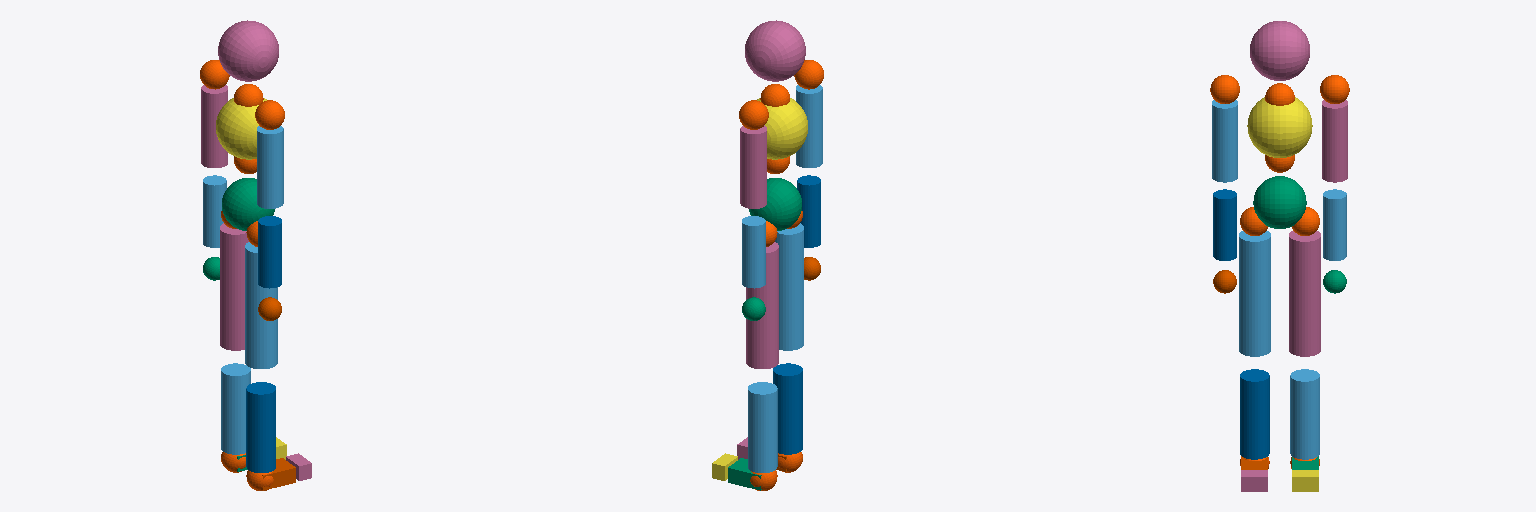
--- Facts derived from the render (not from the file) ---
Views: 3 orthographic renders of the robot side by side, from view 1: azimuth 30°, elevation 25°; view 2: azimuth 150°, elevation 25°; view 3: azimuth 270°, elevation 25°.
Model W0006 with 35 links and 34 joints (28 revolute, 6 fixed), rooted at base_link, posed all joints at 0.
Visible links, largest first — view 1: left_hip, neck, right_hip, right_knee, left_knee, right_shoulder, chest, left_shoulder, right_elbow, root, left_elbow, chest_right_shoulder_link2 (+3 smaller); view 2: right_hip, neck, left_hip, left_knee, right_knee, left_shoulder, chest, right_shoulder, left_elbow, root, right_elbow, chest_left_shoulder_link2 (+3 smaller); view 3: right_hip, left_hip, chest, neck, right_knee, left_knee, root, right_shoulder, left_shoulder, right_elbow, left_elbow, chest_right_shoulder_link2 (+4 smaller).
Boxes of the visible links, left/top/right/bottom form: left_hip: left=220, top=223, right=248, bottom=350; neck: left=218, top=20, right=278, bottom=81; right_hip: left=245, top=242, right=277, bottom=368; right_knee: left=246, top=382, right=275, bottom=472; left_knee: left=221, top=363, right=250, bottom=454; right_shoulder: left=257, top=126, right=283, bottom=208; chest: left=216, top=98, right=266, bottom=159; left_shoulder: left=201, top=85, right=227, bottom=167; right_elbow: left=258, top=216, right=281, bottom=288; root: left=222, top=178, right=274, bottom=230; left_elbow: left=203, top=175, right=226, bottom=247; chest_right_shoulder_link2: left=255, top=100, right=284, bottom=129; right_hip: left=775, top=223, right=803, bottom=350; neck: left=745, top=20, right=805, bottom=81; left_hip: left=746, top=242, right=778, bottom=368; left_knee: left=748, top=382, right=777, bottom=472; right_knee: left=773, top=363, right=802, bottom=454; left_shoulder: left=740, top=125, right=766, bottom=208; chest: left=757, top=98, right=807, bottom=159; right_shoulder: left=796, top=85, right=822, bottom=167; left_elbow: left=742, top=216, right=765, bottom=288; root: left=749, top=178, right=801, bottom=230; right_elbow: left=797, top=175, right=820, bottom=247; chest_left_shoulder_link2: left=739, top=100, right=768, bottom=129; right_hip: left=1239, top=231, right=1270, bottom=356; left_hip: left=1289, top=231, right=1320, bottom=356; chest: left=1247, top=97, right=1312, bottom=157; neck: left=1250, top=21, right=1309, bottom=80; right_knee: left=1240, top=369, right=1269, bottom=459; left_knee: left=1290, top=369, right=1319, bottom=459; root: left=1253, top=176, right=1306, bottom=228; right_shoulder: left=1212, top=100, right=1237, bottom=182; left_shoulder: left=1322, top=100, right=1347, bottom=182; right_elbow: left=1213, top=189, right=1236, bottom=260; left_elbow: left=1323, top=189, right=1346, bottom=260; chest_right_shoulder_link2: left=1210, top=75, right=1239, bottom=103.
Size in the robot's own frame: 0.28 by 0.47 by 1.69 metres.
Geometry: primitives only (box / cylinder / sphere), no mesh files.

URDF robot description (W0006):
<?xml version="1.0" ?>
            <robot name="W0006">
            <material name="orange">
                <color rgba="1.0 0.4235294117647059 0.0392156862745098 1.0"/>
            </material>
            <link name="base_link">
                </link>
            <link name="base">
                </link>
            <joint name="j_base_base_link_rotation" type="fixed">
                <parent link="base_link"/>
                <child link="base"/>
                <origin rpy="1.5707963267948966 0 0" xyz="0 0 0"/>
            </joint>
            <link name="root">
                <inertial>
                <origin rpy="0 0 0" xyz="0.0 0.07 0.0"/>
                <mass value="6.000000"/>
                <inertia ixx="0.019440000000000002" ixy="0" ixz="0" iyy="0.019440000000000002" iyz="0" izz="0.019440000000000002"/>
                </inertial>
                <collision>
                <origin rpy="0 0 0" xyz="0.000000 0.070000 0.000000"/>
                <geometry>
                    <sphere radius="0.09"/>
                </geometry>
                </collision>
                <visual>
                <origin rpy="0 0 0" xyz="0.000000 0.070000 0.000000"/>
                <geometry>
                    <sphere radius="0.09"/>
                </geometry>
                </visual>
            </link>
            <joint name="j_root" type="fixed">
                <parent link="base"/>
                <child link="root"/>
                <origin rpy="0 0 0" xyz="0 0.000000 0.000000"/>
            </joint>
            <link name="chest">
                <inertial>
                <origin rpy="0 0 0" xyz="0.000000 0.120000 0.000000"/>
                <mass value="14.000000"/>
                <inertia ixx="0.06776000000000001" ixy="0" ixz="0" iyy="0.06776000000000001" iyz="0" izz="0.06776000000000001"/>
                </inertial>
                <collision>
                <origin rpy="0 0 0" xyz="0.000000 0.120000 0.000000"/>
                <geometry>
                    <sphere radius="0.11"/>
                </geometry>
                </collision>
                <visual>
                <origin rpy="0 0 0" xyz="0.000000 0.120000 0.000000"/>
                <geometry>
                    <sphere radius="0.11"/>
                </geometry>
                </visual>
            </link>
            <link name="root_chest_link1">
                <inertial>
                <mass value="1e-02"/>
                <inertia ixx="1e-02" ixy="0" ixz="0" iyy="1e-02" iyz="0" izz="1e-02"/>
                </inertial>
            </link>
            <joint name="j_root_chest_joint1" type="revolute">
                <origin rpy="0 0 0" xyz="0.0 0.236151 0.000000"/>
                <parent link="root"/>
                <child link="root_chest_link1"/>
                <axis xyz="1 0 0"/>
                <limit effort="200" lower="-1.2" upper="1.2" velocity="3"/>
            </joint>
            <link name="root_chest_link2">
                <inertial>
                <mass value="1e-02"/>
                <inertia ixx="1e-02" ixy="0" ixz="0" iyy="1e-02" iyz="0" izz="1e-02"/>
                </inertial>
                <visual>
                <geometry>
                    <sphere radius="0.05"/>
                </geometry>
                <material name="orange"/>
                </visual>
            </link>
            <joint name="j_root_chest_joint2" type="revolute">
                <parent link="root_chest_link1"/>
                <child link="root_chest_link2"/>
                <axis xyz="0 1 0"/>
                <limit effort="200" lower="-1.2" upper="1.2" velocity="3"/>
            </joint>
            <joint name="j_root_chest_joint3" type="revolute">
                <parent link="root_chest_link2"/>
                <child link="chest"/>
                <axis xyz="0 0 1"/>
                <limit effort="200" lower="-1.2" upper="1.2" velocity="3"/>
            </joint>
            <link name="neck">
                <inertial>
                <origin rpy="0 0 0" xyz="0.0 0.175 0.0"/>
                <mass value="2.000000"/>
                <inertia ixx="0.008405" ixy="0" ixz="0" iyy="0.008405" iyz="0" izz="0.008405"/>
                </inertial>
                <collision>
                <origin rpy="0 0 0" xyz="0.0 0.175 0.0"/>
                <geometry>
                    <sphere radius="0.1025"/>
                </geometry>
                </collision>
                <visual>
                <origin rpy="0 0 0" xyz="0.0 0.175 0.0"/>
                <geometry>
                    <sphere radius="0.1025"/>
                </geometry>
                </visual>
            </link>
            <link name="chest_neck_link1">
                <inertial>
                <mass value="1e-02"/>
                <inertia ixx="1e-02" ixy="0" ixz="0" iyy="1e-02" iyz="0" izz="1e-02"/>
                </inertial>
            </link>
            <joint name="j_chest_neck_joint1" type="revolute">
                <origin rpy="0 0 0" xyz="0.000000 0.223894 0.000000"/>
                <parent link="chest"/>
                <child link="chest_neck_link1"/>
                <axis xyz="1 0 0"/>
                <limit effort="50" lower="-1" upper="1" velocity="3"/>
            </joint>
            <link name="chest_neck_link2">
                <inertial>
                <mass value="1e-02"/>
                <inertia ixx="1e-02" ixy="0" ixz="0" iyy="1e-02" iyz="0" izz="1e-02"/>
                </inertial>
                <visual>
                <geometry>
                    <sphere radius="0.05"/>
                </geometry>
                <material name="orange"/>
                </visual>
            </link>
            <joint name="j_chest_neck_joint2" type="revolute">
                <parent link="chest_neck_link1"/>
                <child link="chest_neck_link2"/>
                <axis xyz="0 1 0"/>
                <limit effort="50" lower="-1" upper="1" velocity="3"/>
            </joint>
            <joint name="j_chest_neck_joint3" type="revolute">
                <parent link="chest_neck_link2"/>
                <child link="neck"/>
                <axis xyz="0 0 1"/>
                <limit effort="50" lower="-1" upper="1" velocity="3"/>
            </joint>
            <link name="right_hip">
                <inertial>
                <origin rpy="0 0 0" xyz="0.000000 -0.210000 0.000000"/>
                <mass value="4.500000"/>
                <inertia ixx="0.037153124999999995" ixy="0.0" ixz="0.0" iyy="0.037153124999999995" iyz="0.0" izz="0.00680625"/>
                </inertial>
                <collision>
                <origin rpy="1.5707963267948966 0 0" xyz="0.000000 -0.210000 0.000000"/>
                <geometry>
                    <cylinder length="0.22499999999999998" radius="0.0275"/>
                </geometry>
                </collision>
                <visual>
                <origin rpy="1.5707963267948966 0 0" xyz="0.000000 -0.26385 0.000000"/>
                <geometry>
                    <cylinder length="0.42769999999999997" radius="0.055"/>
                </geometry>
                </visual>
            </link>
            <link name="root_right_hip_link1">
                <inertial>
                <mass value="1e-02"/>
                <inertia ixx="1e-02" ixy="0" ixz="0" iyy="1e-02" iyz="0" izz="1e-02"/>
                </inertial>
            </link>
            <joint name="j_root_right_hip_joint1" type="revolute">
                <origin rpy="0 0 0" xyz="0.000000 0.000000 0.084887"/>
                <parent link="root"/>
                <child link="root_right_hip_link1"/>
                <axis xyz="1 0 0"/>
                <limit effort="200" lower="-1.5" upper="1.5" velocity="3"/>
            </joint>
            <link name="root_right_hip_link2">
                <inertial>
                <mass value="1e-02"/>
                <inertia ixx="1e-02" ixy="0" ixz="0" iyy="1e-02" iyz="0" izz="1e-02"/>
                </inertial>
                <visual>
                <geometry>
                    <sphere radius="0.05"/>
                </geometry>
                <material name="orange"/>
                </visual>
            </link>
            <joint name="j_root_right_hip_joint2" type="revolute">
                <parent link="root_right_hip_link1"/>
                <child link="root_right_hip_link2"/>
                <axis xyz="0 1 0"/>
                <limit effort="200" lower="-1.5" upper="1.5" velocity="3"/>
            </joint>
            <joint name="j_root_right_hip_joint3" type="revolute">
                <parent link="root_right_hip_link2"/>
                <child link="right_hip"/>
                <axis xyz="0 0 1"/>
                <limit effort="200" lower="-1.5" upper="1.5" velocity="3"/>
            </joint>
            <link name="right_knee">
                <inertial>
                <origin rpy="0 0 0" xyz="0.000000 -0.200000 0.000000"/>
                <mass value="3.000000"/>
                <inertia ixx="0.1" ixy="0" ixz="0" iyy="0.1" iyz="0" izz="0.1"/>
                </inertial>
                <collision>
                <origin rpy="1.5707963267948966 0 0" xyz="0.000000 -0.200000 0.000000"/>
                <geometry>
                    <cylinder length="0.23249999999999998" radius="0.025"/>
                </geometry>
                </collision>
                <visual>
                <origin rpy="1.5707963267948966 0 0" xyz="0.000000 -0.2 0.000000"/>
                <geometry>
                    <cylinder length="0.29" radius="0.05"/>
                </geometry>
                </visual>
            </link>
            <joint name="j_right_knee" type="revolute">
                <parent link="right_hip"/>
                <child link="right_knee"/>
                <limit effort="150.0" lower="-3.14" upper="0." velocity="0.5"/>
                <origin rpy="0 0 0" xyz="0.000000 -0.5177 0.000000"/>
                <axis xyz="0.000000 0.000000 1.000000"/>
            </joint>
            <link name="right_ankle">
                <inertial>
                <origin rpy="0 0 0" xyz="0.045 -0.00225 0.000000"/>
                <mass value="1.000000"/>
                <inertia ixx="0.0009270833333333333" ixy="0.0" ixz="0.0" iyy="0.0028628333333333327" iyz="0.0" izz="0.003285749999999999"/>
                </inertial>
                <collision>
                <origin rpy="0 0 0" xyz="0.045 -0.00225 0.000000"/>
                <geometry>
                    <box size="0.127 0.055 0.09"/>
                </geometry>
                </collision>
                <visual>
                <origin rpy="0 0 0" xyz="0.045 -0.00225 0.000000"/>
                <geometry>
                    <box size="0.127 0.055 0.09"/>
                </geometry>
                </visual>
            </link>
            <joint name="j_right_toe" type="fixed">
                <parent link="right_ankle"/>
                <child link="right_toe"/>
                <limit effort="150.0" lower="-3.14" upper="0." velocity="0.5"/>
                <origin rpy="0 0 0" xyz="0.1 0.0 0.0"/>
                <axis xyz="0.000000 0.000000 1.000000"/>
            </joint>
            <link name="right_toe">
                <inertial>
                <origin rpy="0 0 0" xyz="0.045 0.0 0.0"/>
                <mass value="0.3"/>
                <inertia ixx="0.0009270833333333333" ixy="0.0" ixz="0.0" iyy="0.0028628333333333327" iyz="0.0" izz="0.003285749999999999"/>
                </inertial>
                <collision>
                <origin rpy="0 0 0" xyz="0.045 0.0 0.0"/>
                <geometry>
                    <box size="0.05 0.055 0.09"/>
                </geometry>
                </collision>
                <visual>
                <origin rpy="0 0 0" xyz="0.045 0.0 0.0"/>
                <geometry>
                    <box size="0.05 0.055 0.09"/>
                </geometry>
                </visual>
            </link>
            <link name="right_knee_right_ankle_link1">
                <inertial>
                <mass value="1e-02"/>
                <inertia ixx="1e-02" ixy="0" ixz="0" iyy="1e-02" iyz="0" izz="1e-02"/>
                </inertial>
            </link>
            <joint name="j_right_knee_right_ankle_joint1" type="revolute">
                <origin rpy="0 0 0" xyz="0.000000 -0.38 0.000000"/>
                <parent link="right_knee"/>
                <child link="right_knee_right_ankle_link1"/>
                <axis xyz="1 0 0"/>
                <limit effort="90" lower="-1.2" upper="1.2" velocity="3"/>
            </joint>
            <link name="right_knee_right_ankle_link2">
                <inertial>
                <mass value="1e-02"/>
                <inertia ixx="1e-02" ixy="0" ixz="0" iyy="1e-02" iyz="0" izz="1e-02"/>
                </inertial>
                <visual>
                <geometry>
                    <sphere radius="0.05"/>
                </geometry>
                <material name="orange"/>
                </visual>
            </link>
            <joint name="j_right_knee_right_ankle_joint2" type="revolute">
                <parent link="right_knee_right_ankle_link1"/>
                <child link="right_knee_right_ankle_link2"/>
                <axis xyz="0 1 0"/>
                <limit effort="90" lower="-1.2" upper="1.2" velocity="3"/>
            </joint>
            <joint name="j_right_knee_right_ankle_joint3" type="revolute">
                <parent link="right_knee_right_ankle_link2"/>
                <child link="right_ankle"/>
                <axis xyz="0 0 1"/>
                <limit effort="90" lower="-1.2" upper="1.2" velocity="3"/>
            </joint>
            <link name="right_shoulder">
                <inertial>
                <origin rpy="0 0 0" xyz="0.000000 -0.140000 0.000000"/>
                <mass value="1.500000"/>
                <inertia ixx="0.004809374999999999" ixy="0.0" ixz="0.0" iyy="0.004809374999999999" iyz="0.0" izz="0.0015187500000000001"/>
                </inertial>
                <collision>
                <origin rpy="1.5707963267948966 0 0" xyz="0.000000 -0.140000 0.000000"/>
                <geometry>
                    <cylinder length="0.135" radius="0.0225"/>
                </geometry>
                </collision>
                <visual>
                <origin rpy="1.5707963267948966 0 0" xyz="0.000000 -0.1875 0.000000"/>
                <geometry>
                    <cylinder length="0.275" radius="0.045"/>
                </geometry>
                </visual>
            </link>
            <link name="chest_right_shoulder_link1">
                <inertial>
                <mass value="1e-02"/>
                <inertia ixx="1e-02" ixy="0" ixz="0" iyy="1e-02" iyz="0" izz="1e-02"/>
                </inertial>
            </link>
            <joint name="j_chest_right_shoulder_joint1" type="revolute">
                <origin rpy="0 0 0" xyz="-0.02406 0.24350 0.185"/>
                <parent link="chest"/>
                <child link="chest_right_shoulder_link1"/>
                <axis xyz="1 0 0"/>
                <limit effort="100" lower="-3.14" upper="3.14" velocity="3"/>
            </joint>
            <link name="chest_right_shoulder_link2">
                <inertial>
                <mass value="1e-02"/>
                <inertia ixx="1e-02" ixy="0" ixz="0" iyy="1e-02" iyz="0" izz="1e-02"/>
                </inertial>
                <visual>
                <geometry>
                    <sphere radius="0.05"/>
                </geometry>
                <material name="orange"/>
                </visual>
            </link>
            <joint name="j_chest_right_shoulder_joint2" type="revolute">
                <parent link="chest_right_shoulder_link1"/>
                <child link="chest_right_shoulder_link2"/>
                <axis xyz="0 1 0"/>
                <limit effort="100" lower="-3.14" upper="3.14" velocity="3"/>
            </joint>
            <joint name="j_chest_right_shoulder_joint3" type="revolute">
                <parent link="chest_right_shoulder_link2"/>
                <child link="right_shoulder"/>
                <axis xyz="0 0 1"/>
                <limit effort="100" lower="-3.14" upper="3.14" velocity="3"/>
            </joint>
            <link name="right_elbow">
                <inertial>
                <origin rpy="0 0 0" xyz="0.000000 -0.120000 0.000000"/>
                <mass value="1.000000"/>
                <inertia ixx="0.0019187499999999999" ixy="0.0" ixz="0.0" iyy="0.0019187499999999999" iyz="0.0" izz="0.0008"/>
                </inertial>
                <collision>
                <origin rpy="1.5707963267948966 0 0" xyz="0.0 -0.12 0.0"/>
                <geometry>
                    <cylinder length="0.10125" radius="0.02"/>
                </geometry>
                </collision>
                <visual>
                <origin rpy="1.5707963267948966 0 0" xyz="0.0 -0.12 0.0"/>
                <geometry>
                    <cylinder length="0.23" radius="0.04"/>
                </geometry>
                </visual>
            </link>
            <joint name="j_right_elbow" type="revolute">
                <parent link="right_shoulder"/>
                <child link="right_elbow"/>
                <limit effort="60.0" lower="0" upper="3.14" velocity="0.5"/>
                <origin rpy="0 0 0" xyz="0.000000 -0.385 0.000000"/>
                <axis xyz="0.000000 0.000000 1.000000"/>
            </joint>
            <link name="right_wrist">
                <inertial>
                <origin rpy="0 0 0" xyz="0.000000 0.000000 0.000000"/>
                <mass value="0.500000"/>
                <inertia ixx="0.00032" ixy="0" ixz="0" iyy="0.00032" iyz="0" izz="0.00032"/>
                </inertial>
                <collision>
                <origin rpy="0 0 0" xyz="0.000000 0.000000 0.000000"/>
                <geometry>
                    <sphere radius="0.04"/>
                </geometry>
                </collision>
                <visual>
                <origin rpy="0 0 0" xyz="0.000000 0.000000 0.000000"/>
                <geometry>
                    <sphere radius="0.04"/>
                </geometry>
                </visual>
            </link>
            <joint name="j_right_wrist" type="fixed">
                <parent link="right_elbow"/>
                <child link="right_wrist"/>
                <origin rpy="0 0 0" xyz="0.000000 -0.33 0.000000"/>
            </joint>
            <link name="left_hip">
                <inertial>
                <origin rpy="0 0 0" xyz="0.000000 -0.210000 0.000000"/>
                <mass value="4.500000"/>
                <inertia ixx="0.037153124999999995" ixy="0.0" ixz="0.0" iyy="0.037153124999999995" iyz="0.0" izz="0.00680625"/>
                </inertial>
                <collision>
                <origin rpy="1.5707963267948966 0 0" xyz="0.000000 -0.210000 0.000000"/>
                <geometry>
                    <cylinder length="0.22499999999999998" radius="0.0275"/>
                </geometry>
                </collision>
                <visual>
                <origin rpy="1.5707963267948966 0 0" xyz="0.000000 -0.26385 0.000000"/>
                <geometry>
                    <cylinder length="0.42769999999999997" radius="0.055"/>
                </geometry>
                </visual>
            </link>
            <link name="root_left_hip_link1">
                <inertial>
                <mass value="1e-02"/>
                <inertia ixx="1e-02" ixy="0" ixz="0" iyy="1e-02" iyz="0" izz="1e-02"/>
                </inertial>
            </link>
            <joint name="j_root_left_hip_joint1" type="revolute">
                <origin rpy="0 0 0" xyz="0.000000 0.000000 -0.084887"/>
                <parent link="root"/>
                <child link="root_left_hip_link1"/>
                <axis xyz="1 0 0"/>
                <limit effort="200" lower="-1.5" upper="1.5" velocity="3"/>
            </joint>
            <link name="root_left_hip_link2">
                <inertial>
                <mass value="1e-02"/>
                <inertia ixx="1e-02" ixy="0" ixz="0" iyy="1e-02" iyz="0" izz="1e-02"/>
                </inertial>
                <visual>
                <geometry>
                    <sphere radius="0.05"/>
                </geometry>
                <material name="orange"/>
                </visual>
            </link>
            <joint name="j_root_left_hip_joint2" type="revolute">
                <parent link="root_left_hip_link1"/>
                <child link="root_left_hip_link2"/>
                <axis xyz="0 1 0"/>
                <limit effort="200" lower="-1.5" upper="1.5" velocity="3"/>
            </joint>
            <joint name="j_root_left_hip_joint3" type="revolute">
                <parent link="root_left_hip_link2"/>
                <child link="left_hip"/>
                <axis xyz="0 0 1"/>
                <limit effort="200" lower="-1.5" upper="1.5" velocity="3"/>
            </joint>
            <link name="left_knee">
                <inertial>
                <origin rpy="0 0 0" xyz="0.000000 -0.200000 0.000000"/>
                <mass value="3.000000"/>
                <inertia ixx="0.025900000000000003" ixy="0.0" ixz="0.0" iyy="0.025900000000000003" iyz="0.0" izz="0.0037500000000000007"/>
                </inertial>
                <collision>
                <origin rpy="1.5707963267948966 0 0" xyz="0.000000 -0.200000 0.000000"/>
                <geometry>
                    <cylinder length="0.23249999999999998" radius="0.025"/>
                </geometry>
                </collision>
                <visual>
                <origin rpy="1.5707963267948966 0 0" xyz="0.000000 -0.2 0.000000"/>
                <geometry>
                    <cylinder length="0.29" radius="0.05"/>
                </geometry>
                </visual>
            </link>
            <joint name="j_left_knee" type="revolute">
                <parent link="left_hip"/>
                <child link="left_knee"/>
                <limit effort="150.0" lower="-3.14" upper="0." velocity="0.5"/>
                <origin rpy="0 0 0" xyz="0.000000 -0.5177 0.000000"/>
                <axis xyz="0.000000 0.000000 1.000000"/>
            </joint>
            <link name="left_ankle">
                <inertial>
                <origin rpy="0 0 0" xyz="0.045 -0.00225 0.0"/>
                <mass value="0.7"/>
                <inertia ixx="0.0009270833333333333" ixy="0.0" ixz="0.0" iyy="0.0028628333333333327" iyz="0.0" izz="0.003285749999999999"/>
                </inertial>
                <collision>
                <origin rpy="0 0 0" xyz="0.045 -0.00225 0.0"/>
                <geometry>
                    <box size="0.127 0.055 0.09"/>
                </geometry>
                </collision>
                <visual>
                <origin rpy="0 0 0" xyz="0.045 -0.00225 0.0"/>
                <geometry>
                    <box size="0.127 0.055 0.09"/>
                </geometry>
                </visual>
            </link>
            <joint name="j_left_toe" type="fixed">
                <parent link="left_ankle"/>
                <child link="left_toe"/>
                <limit effort="150.0" lower="-3.14" upper="0." velocity="0.5"/>
                <origin rpy="0 0 0" xyz="0.1 0.0 0.0"/>
                <axis xyz="0.000000 0.000000 1.000000"/>
            </joint>
            <link name="left_toe">
                <inertial>
                <origin rpy="0 0 0" xyz="0.045 0.0 0.0"/>
                <mass value="0.3"/>
                <inertia ixx="0.0009270833333333333" ixy="0.0" ixz="0.0" iyy="0.0028628333333333327" iyz="0.0" izz="0.003285749999999999"/>
                </inertial>
                <collision>
                <origin rpy="0 0 0" xyz="0.045 0.0 0.0"/>
                <geometry>
                    <box size="0.05 0.055 0.09"/>
                </geometry>
                </collision>
                <visual>
                <origin rpy="0 0 0" xyz="0.045 0.0 0.0"/>
                <geometry>
                    <box size="0.05 0.055 0.09"/>
                </geometry>
                </visual>
            </link>
            <link name="left_knee_left_ankle_link1">
                <inertial>
                <mass value="1e-02"/>
                <inertia ixx="1e-02" ixy="0" ixz="0" iyy="1e-02" iyz="0" izz="1e-02"/>
                </inertial>
            </link>
            <joint name="j_left_knee_left_ankle_joint1" type="revolute">
                <origin rpy="0 0 0" xyz="0.000000 -0.38 0.000000"/>
                <parent link="left_knee"/>
                <child link="left_knee_left_ankle_link1"/>
                <axis xyz="1 0 0"/>
                <limit effort="90" lower="-1.2" upper="1.2" velocity="3"/>
            </joint>
            <link name="left_knee_left_ankle_link2">
                <inertial>
                <mass value="1e-02"/>
                <inertia ixx="1e-02" ixy="0" ixz="0" iyy="1e-02" iyz="0" izz="1e-02"/>
                </inertial>
                <visual>
                <geometry>
                    <sphere radius="0.05"/>
                </geometry>
                <material name="orange"/>
                </visual>
            </link>
            <joint name="j_left_knee_left_ankle_joint2" type="revolute">
                <parent link="left_knee_left_ankle_link1"/>
                <child link="left_knee_left_ankle_link2"/>
                <axis xyz="0 1 0"/>
                <limit effort="90" lower="-1.2" upper="1.2" velocity="3"/>
            </joint>
            <joint name="j_left_knee_left_ankle_joint3" type="revolute">
                <parent link="left_knee_left_ankle_link2"/>
                <child link="left_ankle"/>
                <axis xyz="0 0 1"/>
                <limit effort="90" lower="-1.2" upper="1.2" velocity="3"/>
            </joint>
            <link name="left_shoulder">
                <inertial>
                <origin rpy="0 0 0" xyz="0.000000 -0.140000 0.000000"/>
                <mass value="1.500000"/>
                <inertia ixx="0.004809374999999999" ixy="0.0" ixz="0.0" iyy="0.004809374999999999" iyz="0.0" izz="0.0015187500000000001"/>
                </inertial>
                <collision>
                <origin rpy="1.5707963267948966 0 0" xyz="0.000000 -0.140000 0.000000"/>
                <geometry>
                    <cylinder length="0.135" radius="0.0225"/>
                </geometry>
                </collision>
                <visual>
                <origin rpy="1.5707963267948966 0 0" xyz="0.000000 -0.1875 0.000000"/>
                <geometry>
                    <cylinder length="0.275" radius="0.045"/>
                </geometry>
                </visual>
            </link>
            <link name="chest_left_shoulder_link1">
                <inertial>
                <mass value="1e-02"/>
                <inertia ixx="1e-02" ixy="0" ixz="0" iyy="1e-02" iyz="0" izz="1e-02"/>
                </inertial>
            </link>
            <joint name="j_chest_left_shoulder_joint1" type="revolute">
                <origin rpy="0 0 0" xyz="-0.02405 0.24350 -0.185"/>
                <parent link="chest"/>
                <child link="chest_left_shoulder_link1"/>
                <axis xyz="1 0 0"/>
                <limit effort="100" lower="-3.14" upper="3.14" velocity="3"/>
            </joint>
            <link name="chest_left_shoulder_link2">
                <inertial>
                <mass value="1e-02"/>
                <inertia ixx="1e-02" ixy="0" ixz="0" iyy="1e-02" iyz="0" izz="1e-02"/>
                </inertial>
                <visual>
                <geometry>
                    <sphere radius="0.05"/>
                </geometry>
                <material name="orange"/>
                </visual>
            </link>
            <joint name="j_chest_left_shoulder_joint2" type="revolute">
                <parent link="chest_left_shoulder_link1"/>
                <child link="chest_left_shoulder_link2"/>
                <axis xyz="0 1 0"/>
                <limit effort="100" lower="-3.14" upper="3.14" velocity="3"/>
            </joint>
            <joint name="j_chest_left_shoulder_joint3" type="revolute">
                <parent link="chest_left_shoulder_link2"/>
                <child link="left_shoulder"/>
                <axis xyz="0 0 1"/>
                <limit effort="100" lower="-3.14" upper="3.14" velocity="3"/>
            </joint>
            <link name="left_elbow">
                <inertial>
                <origin rpy="0 0 0" xyz="0.000000 -0.12 0.000000"/>
                <mass value="1.000000"/>
                <inertia ixx="0.0019187499999999999" ixy="0.0" ixz="0.0" iyy="0.0019187499999999999" iyz="0.0" izz="0.0008"/>
                </inertial>
                <collision>
                <origin rpy="1.5707963267948966 0 0" xyz="0.000000 -0.12 0.000000"/>
                <geometry>
                    <cylinder length="0.10125" radius="0.02"/>
                </geometry>
                </collision>
                <visual>
                <origin rpy="1.5707963267948966 0 0" xyz="0.000000 -0.12 0.000000"/>
                <geometry>
                    <cylinder length="0.23" radius="0.04"/>
                </geometry>
                </visual>
            </link>
            <joint name="j_left_elbow" type="revolute">
                <parent link="left_shoulder"/>
                <child link="left_elbow"/>
                <limit effort="60.0" lower="0" upper="3.14" velocity="0.5"/>
                <origin rpy="0 0 0" xyz="0.000000 -0.385 0.000000"/>
                <axis xyz="0.000000 0.000000 1.000000"/>
            </joint>
            <link name="left_wrist">
                <inertial>
                <origin rpy="0 0 0" xyz="0.000000 0.000000 0.000000"/>
                <mass value="0.500000"/>
                <inertia ixx="0.00032" ixy="0" ixz="0" iyy="0.00032" iyz="0" izz="0.00032"/>
                </inertial>
                <collision>
                <origin rpy="0 0 0" xyz="0.000000 0.000000 0.000000"/>
                <geometry>
                    <sphere radius="0.04"/>
                </geometry>
                </collision>
                <visual>
                <origin rpy="0 0 0" xyz="0.000000 0.000000 0.000000"/>
                <geometry>
                    <sphere radius="0.04"/>
                </geometry>
                </visual>
            </link>
            <joint name="j_left_wrist_joint" type="fixed">
                <parent link="left_elbow"/>
                <child link="left_wrist"/>
                <origin rpy="0 0 0" xyz="0.000000 -0.33 0.000000"/>
            </joint>
            </robot>
            
